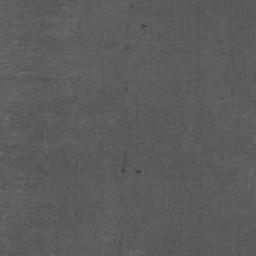Inclusion: (121, 168, 141, 174)
